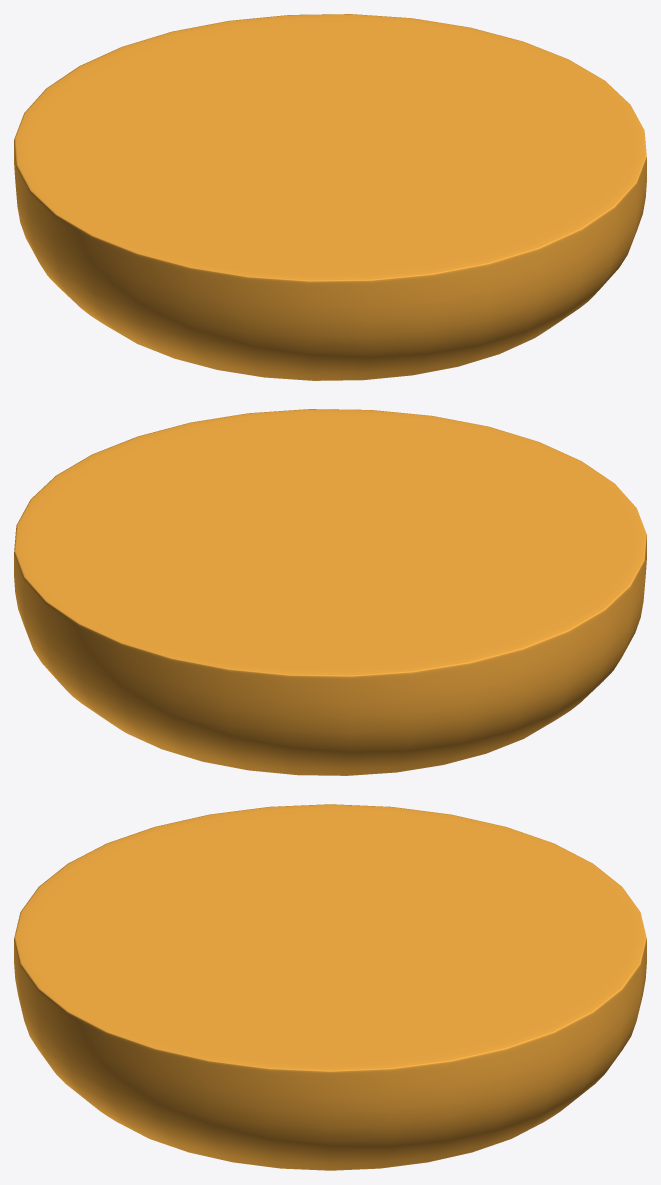
File: Bun_Bottom.fbx
3 views of the same model, one above another, from view 1: azimuth 30°, elevation 25°; view 2: azimuth 150°, elevation 25°; view 3: azimuth 270°, elevation 25° (orthographic).
Visible parts, largest first — view 1: Bun_Bottom; view 2: Bun_Bottom; view 3: Bun_Bottom.
Boxes of the visible parts, x1,y1,x2,y2 form: Bun_Bottom: [14, 14, 646, 380]; Bun_Bottom: [14, 409, 646, 775]; Bun_Bottom: [14, 804, 646, 1170].
Bounding box in the file's own units: 1166 × 257 × 1166.
